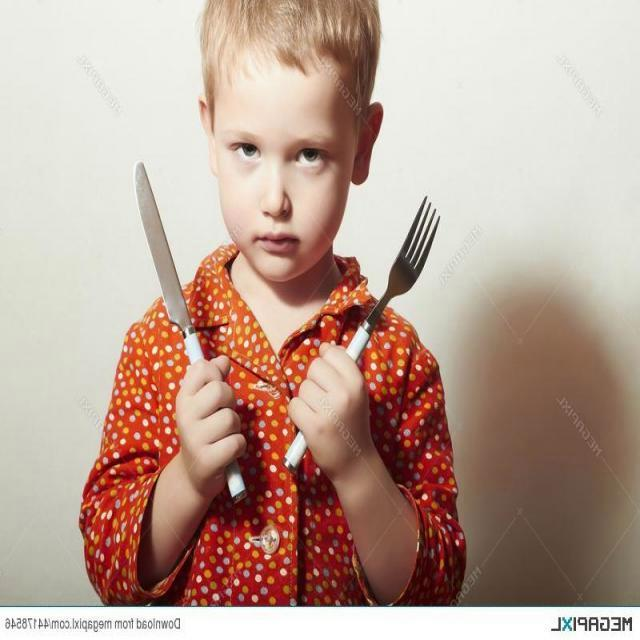child: (80, 1, 468, 606)
